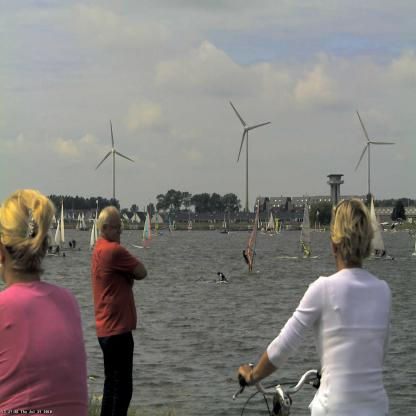other: (85, 234, 144, 334), (4, 186, 52, 258)
